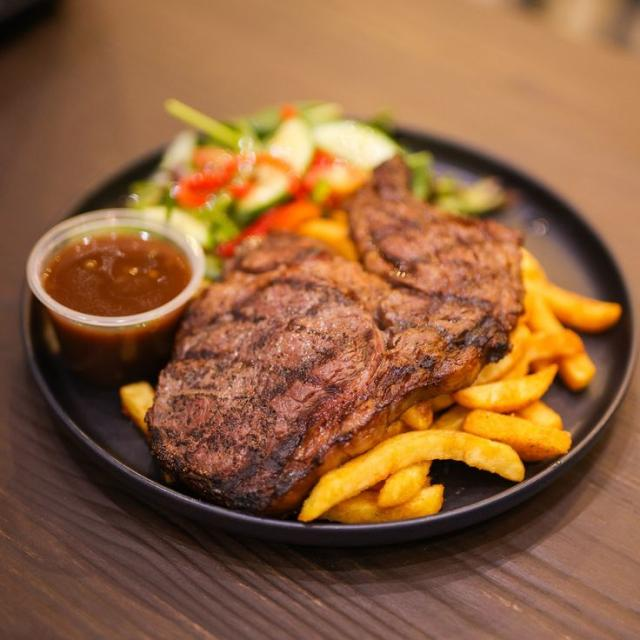beef steak: (147, 214, 519, 515), (349, 158, 523, 347)
potato fries: (300, 430, 523, 520), (464, 410, 570, 461), (454, 364, 557, 412), (324, 485, 443, 523), (534, 282, 621, 332), (474, 324, 530, 385), (377, 461, 430, 507), (120, 382, 153, 438), (526, 329, 583, 361), (559, 350, 596, 390), (529, 291, 562, 331), (517, 401, 562, 428), (522, 248, 545, 289)
